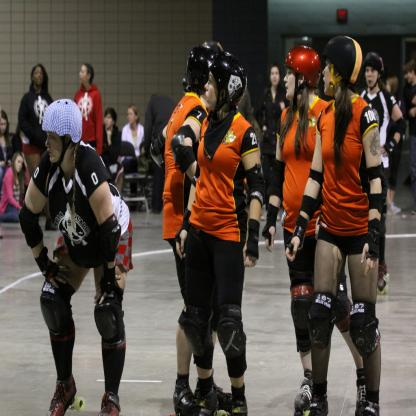Helmet: (186, 47, 252, 122), (41, 96, 84, 167), (324, 34, 364, 98), (284, 43, 322, 105), (186, 40, 219, 92), (363, 52, 386, 89)
